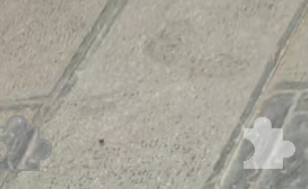target: (232, 110, 295, 173)
